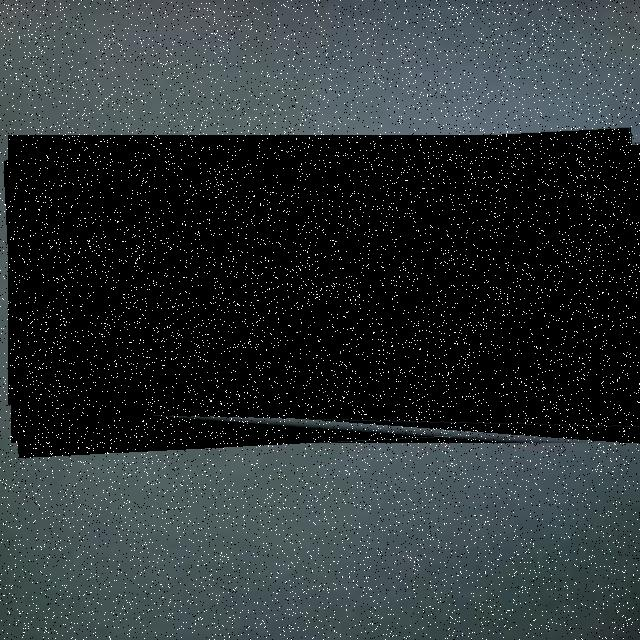lima puluh ribu rupiah: (8, 135, 640, 451)
